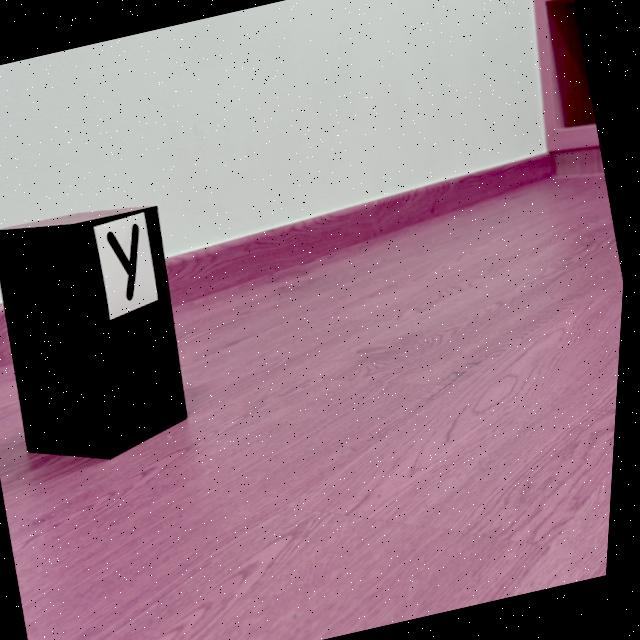Y: (109, 223, 142, 300)
